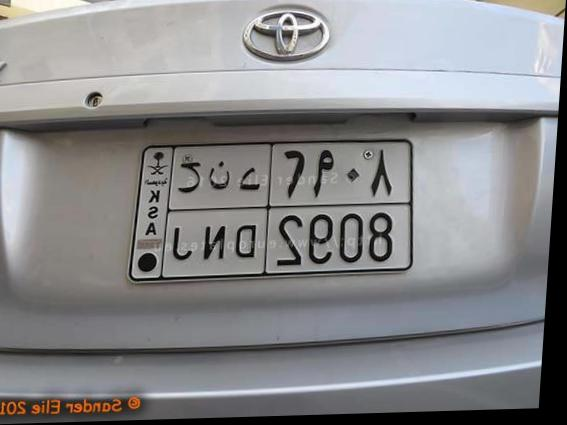License_Plate: (120, 134, 423, 292)
